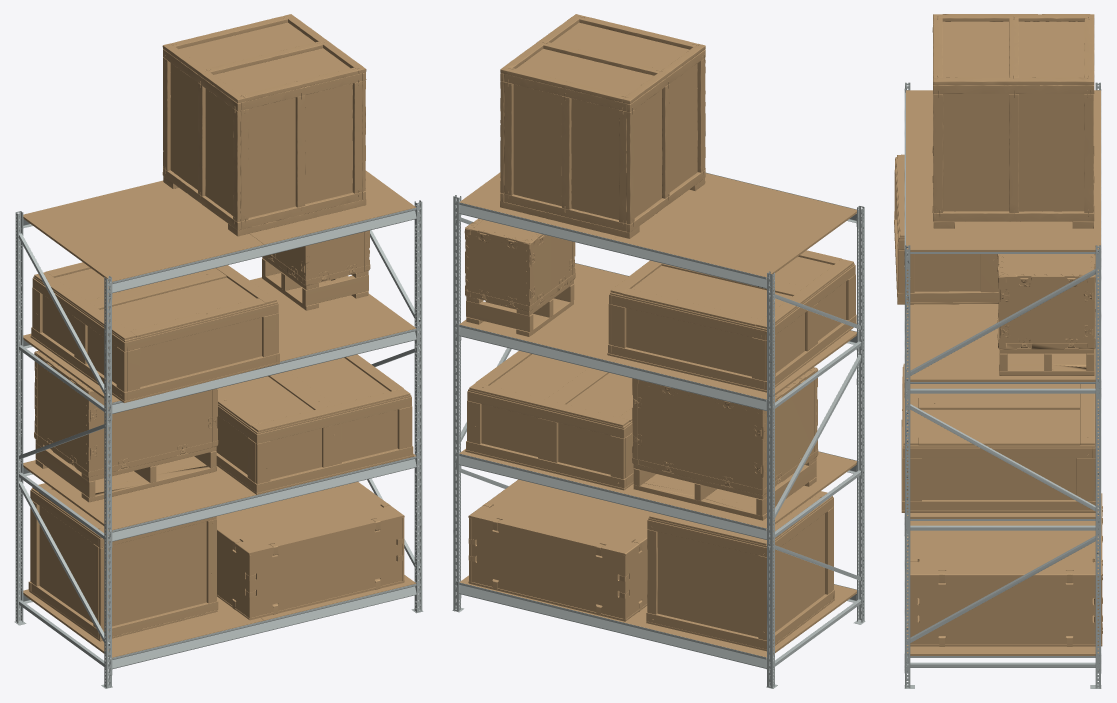
File: rack_composition_a06.glb
The picture shows the model from 3 angles, left to right: view 1: azimuth 30°, elevation 25°; view 2: azimuth 150°, elevation 25°; view 3: azimuth 270°, elevation 25°; orthographic projection. The views are drawn at different scales.
Size of the model in its own units: 2.45 by 4.02 by 1.3.
